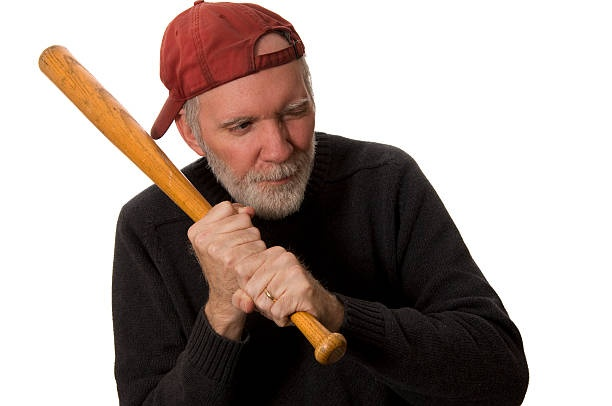bita: (31, 43, 350, 360)
